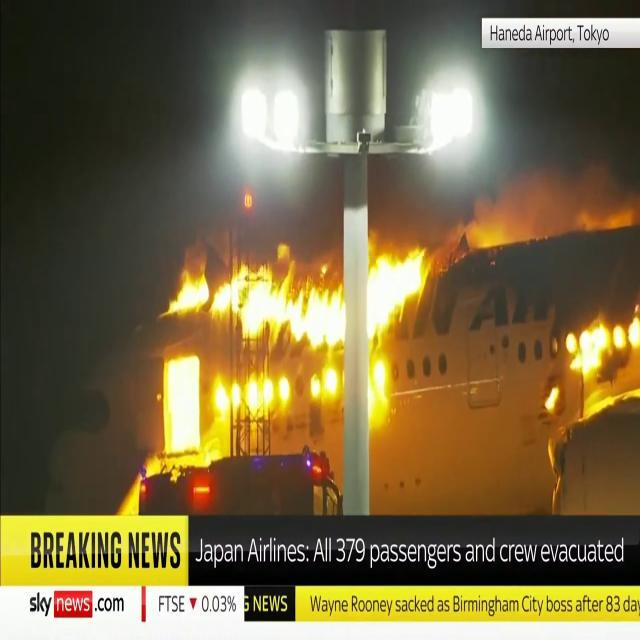Fire: (166, 243, 344, 409), (366, 239, 432, 413), (564, 305, 640, 376)
